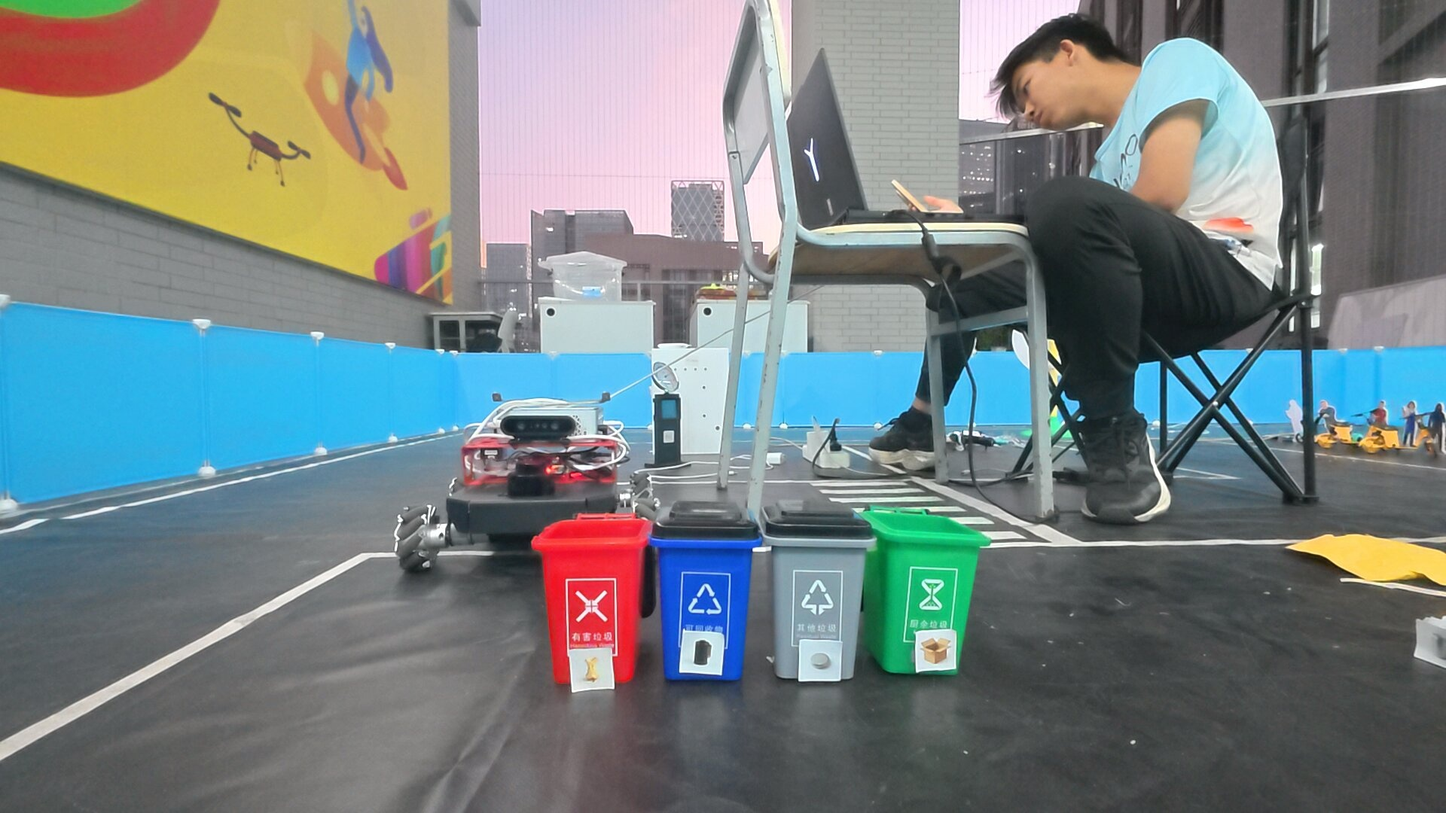food_trash: (573, 649, 613, 685)
hazardous_trash: (800, 643, 842, 683), (683, 633, 722, 670)
recyclable_trash: (916, 632, 954, 670)
